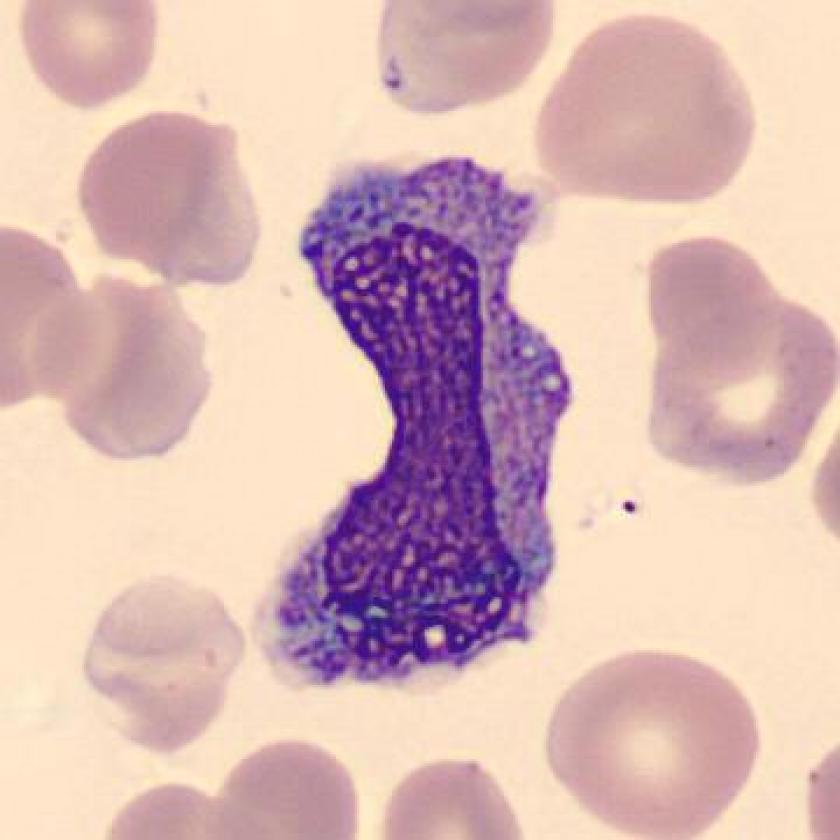monocyte: (237, 142, 594, 721)
